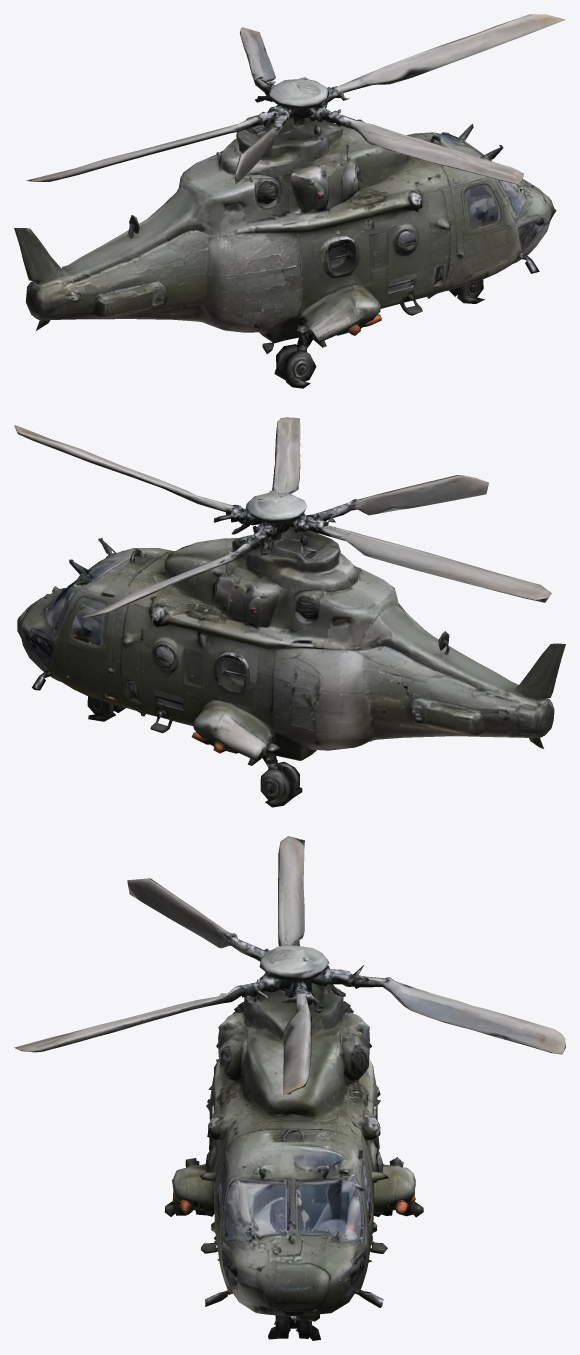
Rendered from xd_heli.glb.
The picture shows the model from 3 angles, top to bottom: view 1: azimuth 30°, elevation 25°; view 2: azimuth 150°, elevation 25°; view 3: azimuth 270°, elevation 25°; orthographic projection. The views are drawn at different scales.
Parts seen in each view (by area): view 1: tripo_node_6b885d86-9a1e-4244-a54a-7dfb143ace31; view 2: tripo_node_6b885d86-9a1e-4244-a54a-7dfb143ace31; view 3: tripo_node_6b885d86-9a1e-4244-a54a-7dfb143ace31.
Boxes of the visible parts, x1,y1,x2,y2 form: tripo_node_6b885d86-9a1e-4244-a54a-7dfb143ace31: (14, 14, 565, 388); tripo_node_6b885d86-9a1e-4244-a54a-7dfb143ace31: (14, 417, 565, 807); tripo_node_6b885d86-9a1e-4244-a54a-7dfb143ace31: (14, 836, 565, 1340).
Size of the model in its own units: 0.9855 by 0.447 by 0.7459.
Materials: 1 (1 with a texture image).
